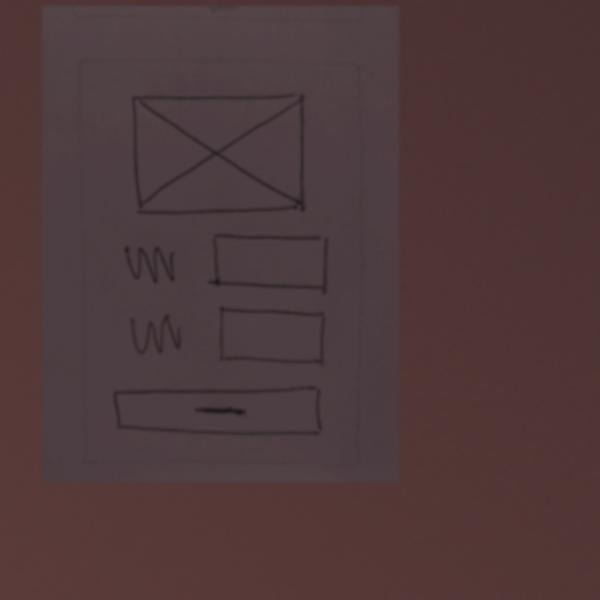button: (102, 379, 336, 443)
image: (124, 90, 316, 222)
text: (121, 313, 198, 360), (113, 243, 188, 281)
text_input: (208, 229, 334, 298), (210, 305, 334, 374)
